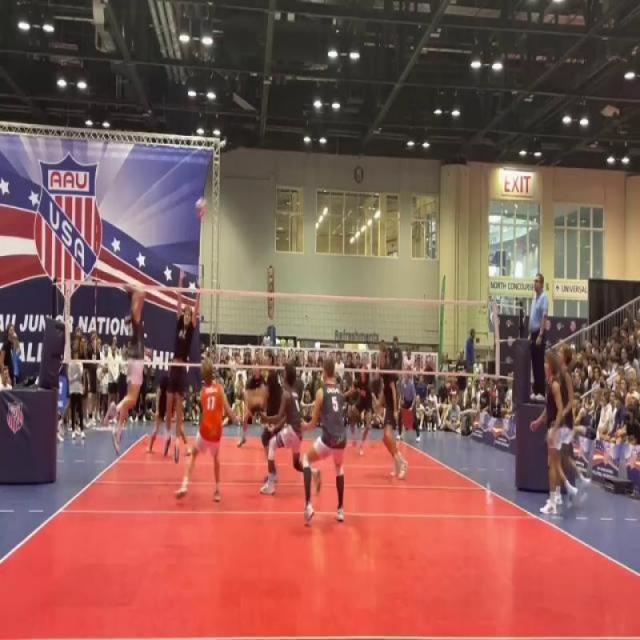volleyball: (194, 196, 208, 222)
